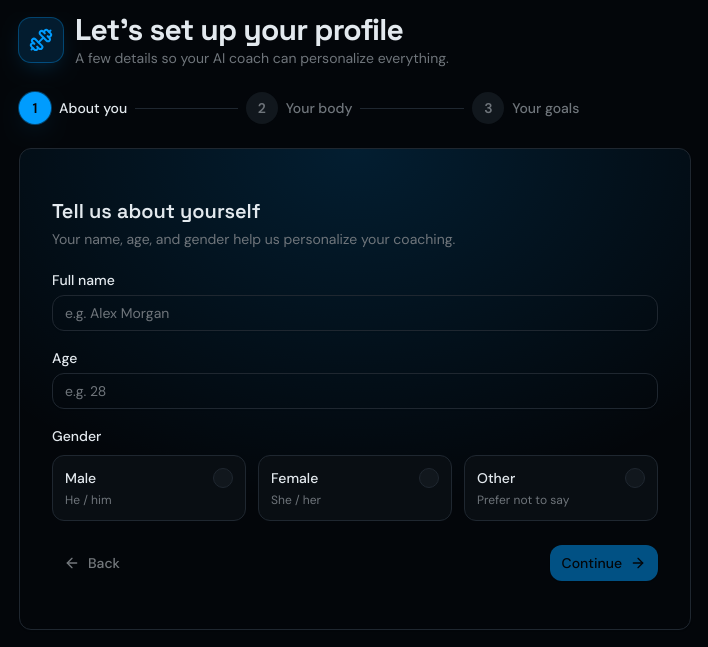
Test case: Profile onboarding › requires the step-1 fields before advancing to the next step
Expected: the button "Continue" is disabled, [550,545,658,581]
Step 1. Type "Ada Lovelace" into the field labelled "Full name" → (355, 313), box [52,295,658,331]
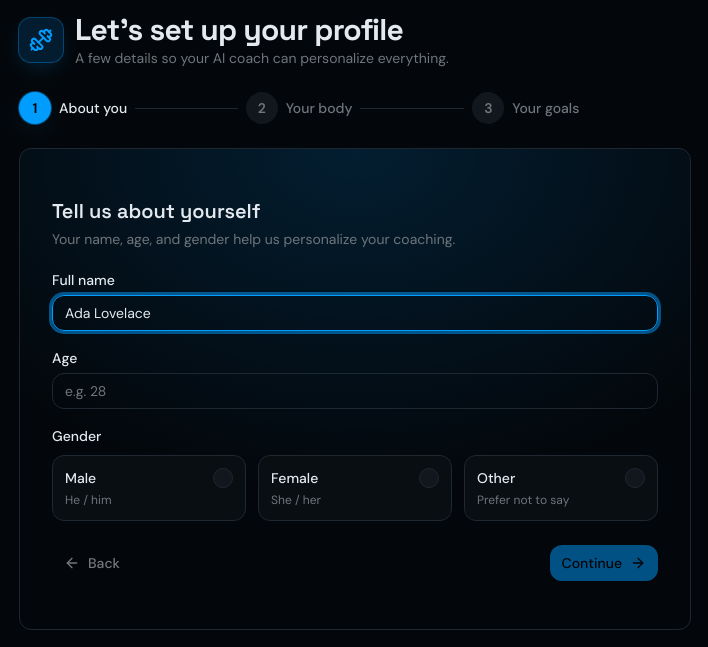
Step 2. Type "30" into the number field labelled "Age" → (355, 391), box [52,373,658,409]
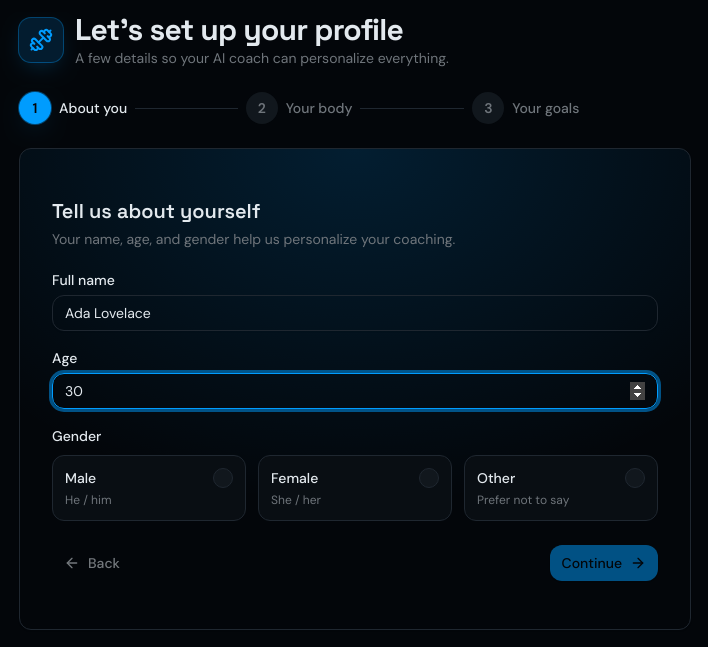
Expected: the button "Continue" is disabled, [550,545,658,581]
Step 3. Click the text "Female" → (295, 478), box [271,468,318,488]
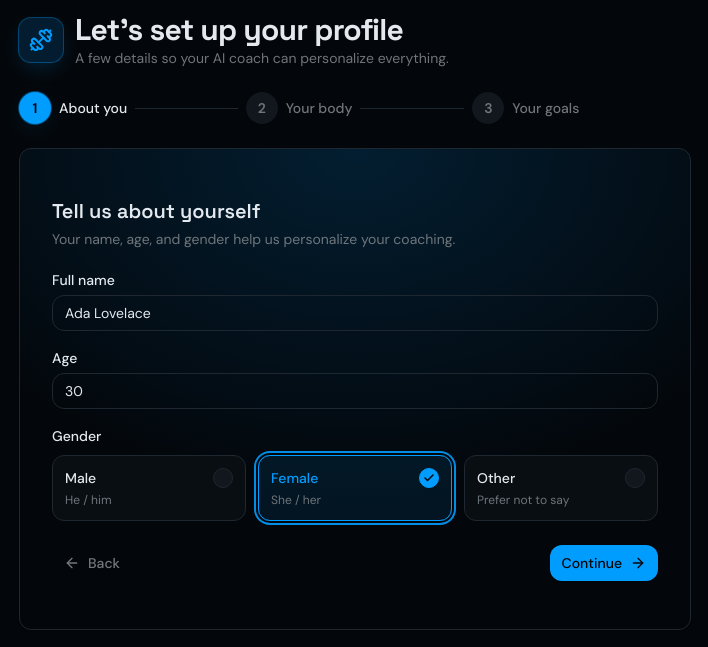
Now the button "Continue" is enabled
// Advancing shows the body-metrics step.
Step 4. Click the button "Continue" → (604, 563), box [550,545,658,581]
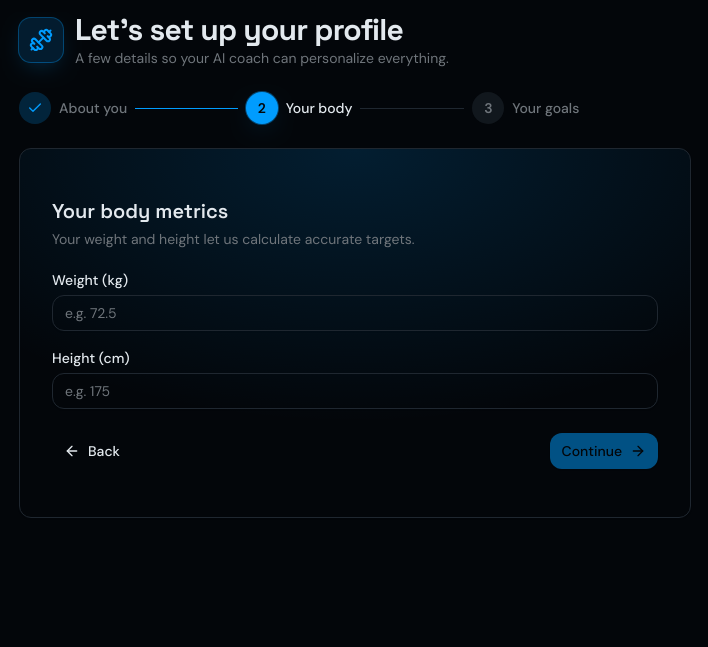
Now the number field labelled "Weight (kg)" is shown, box [52,295,658,331]
Now the heading "Your body metrics" is shown, box [52,198,228,224]
